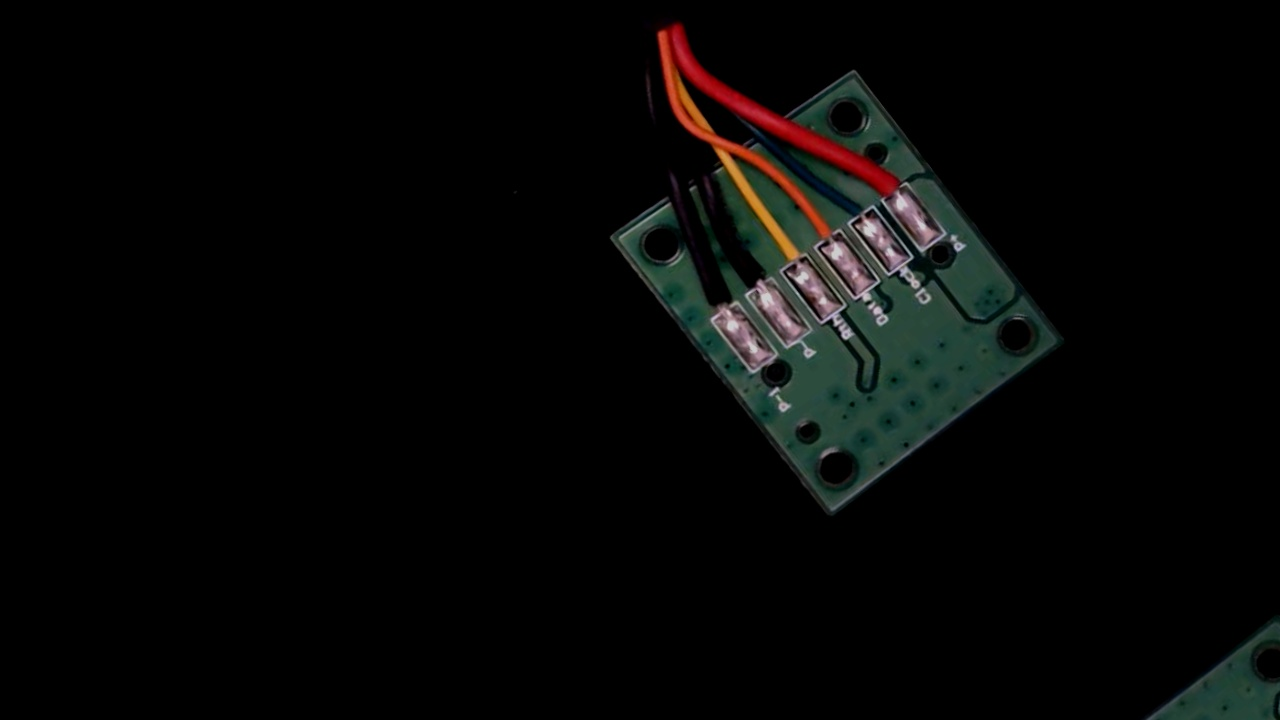Black: (707, 226, 786, 309)
Black1: (675, 257, 750, 335)
Green: (811, 164, 886, 243)
Orange: (777, 185, 852, 265)
Red: (844, 136, 919, 214)
Yellow: (740, 205, 819, 288)
